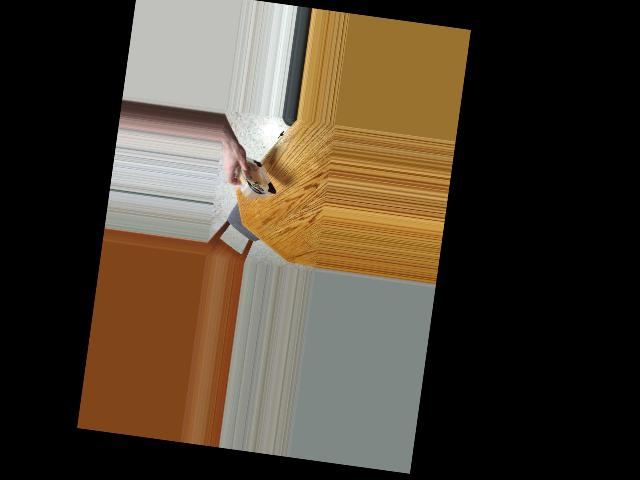cheese: (233, 143, 279, 206)
